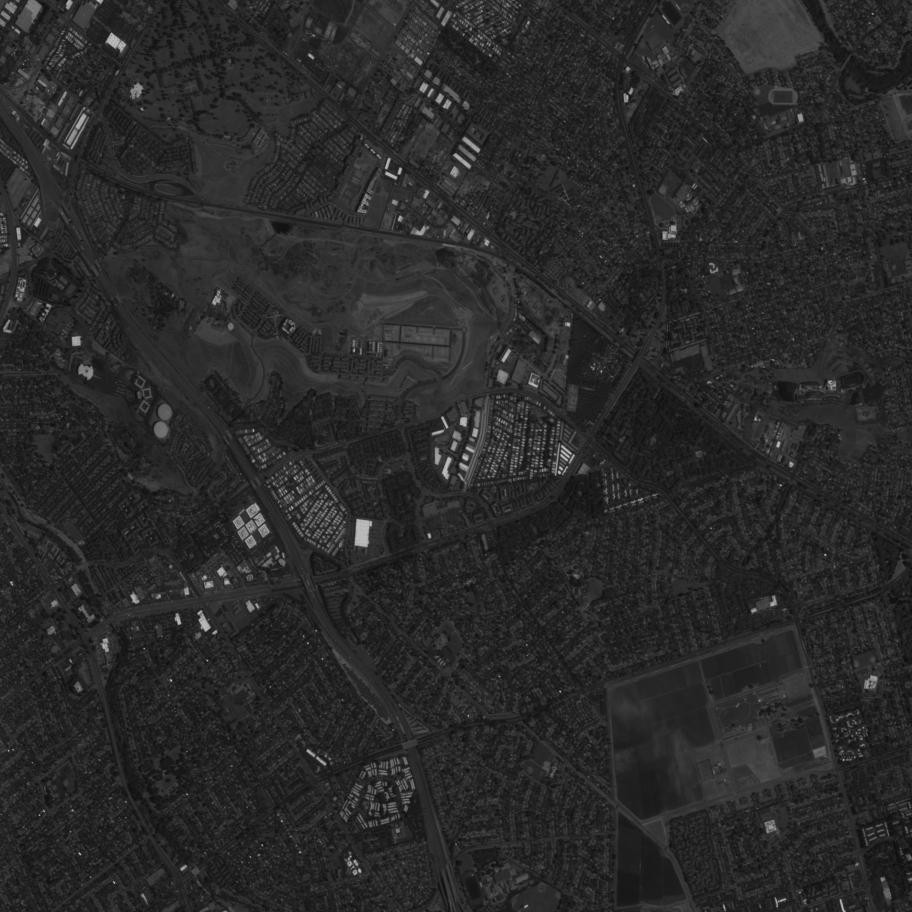storage-tank: (156, 403, 173, 420), (152, 422, 169, 439), (227, 323, 235, 330)
